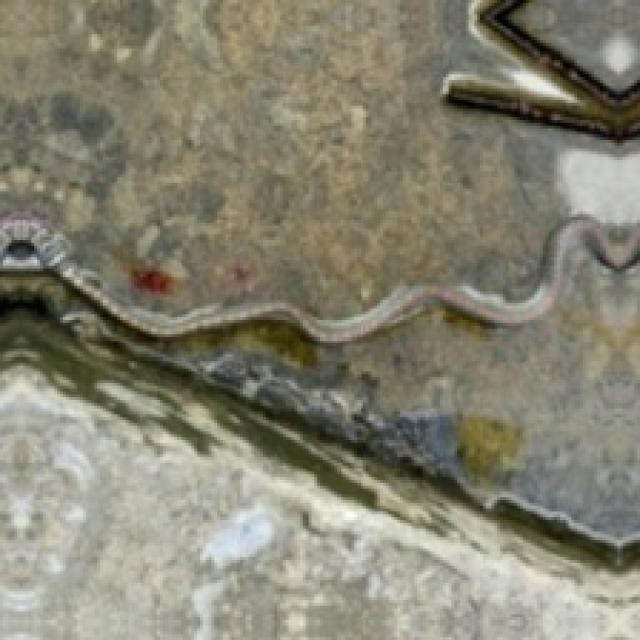paradise tree snake: (0, 214, 637, 343)
